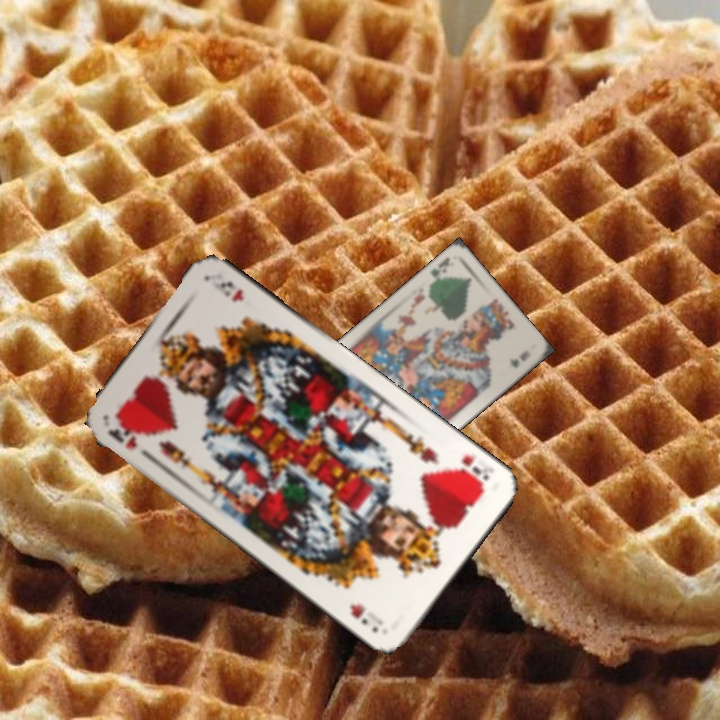GK: (426, 253, 453, 287)
HK: (450, 450, 492, 492), (104, 419, 140, 452)
